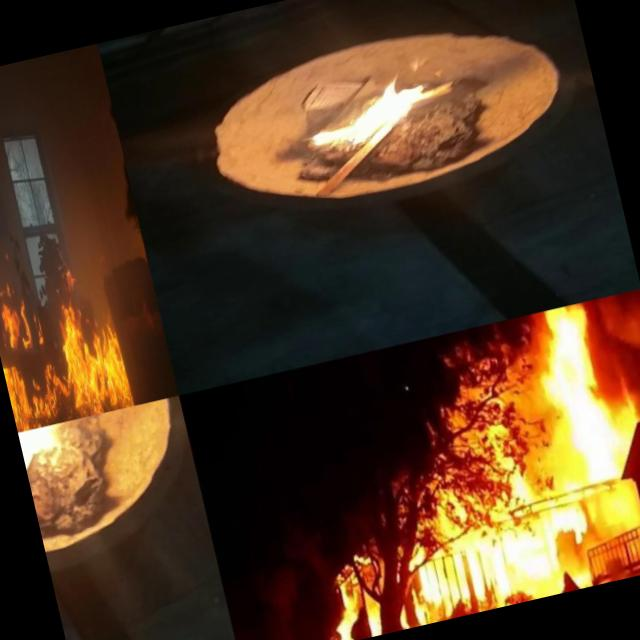fire: (0, 242, 133, 432), (520, 298, 634, 484), (285, 56, 453, 170), (308, 575, 370, 640), (17, 424, 64, 476), (611, 367, 640, 429)
